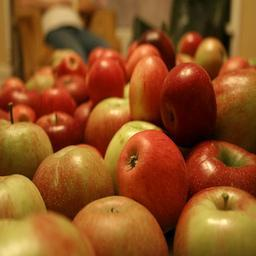apple: (115, 128, 186, 221), (172, 186, 256, 256), (72, 196, 167, 255), (32, 144, 114, 212), (159, 62, 217, 144), (183, 138, 255, 198), (211, 66, 256, 150), (1, 119, 53, 178), (129, 56, 167, 124)
